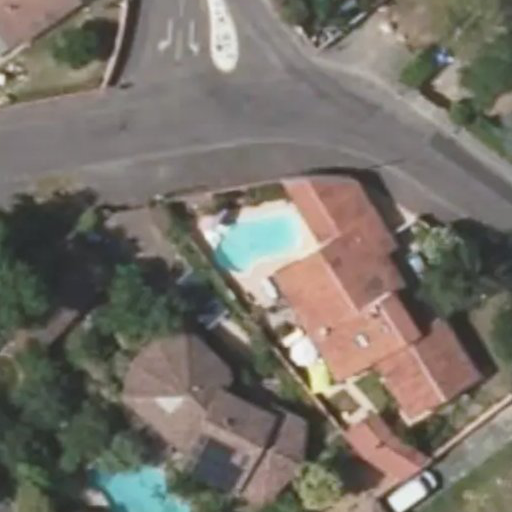pool: (216, 234, 296, 248)
